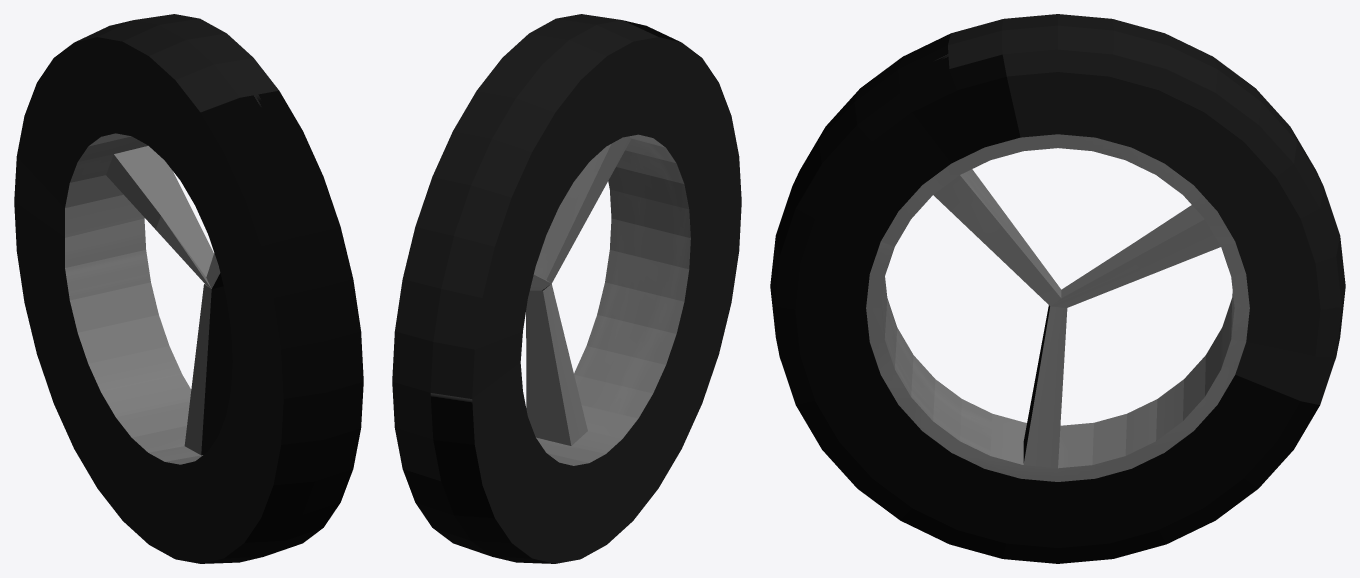
The model's file is rueda.gltf.
3 views of the same model, side by side, from view 1: azimuth 30°, elevation 25°; view 2: azimuth 150°, elevation 25°; view 3: azimuth 270°, elevation 25° (orthographic). The views are drawn at different scales.
Parts seen in each view (by area): view 1: Cylinder; view 2: Cylinder; view 3: Cylinder.
Part boxes in pixels (x1,y1,x2,y2): Cylinder: [14, 14, 363, 563]; Cylinder: [392, 14, 741, 563]; Cylinder: [770, 14, 1345, 563].
Bounding box in the file's own units: 0.6226 × 3.54 × 3.54.
1 material, 1 textured.
